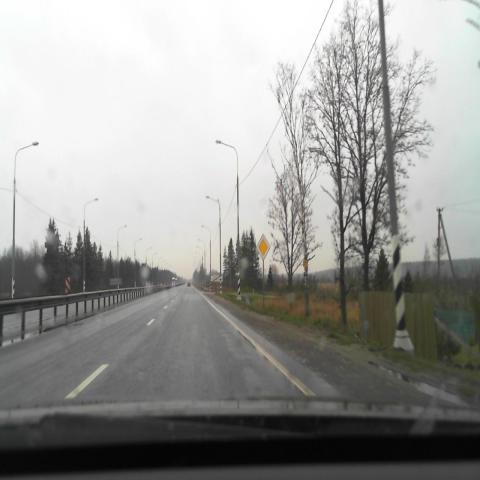2_1: (256, 234, 270, 260)
